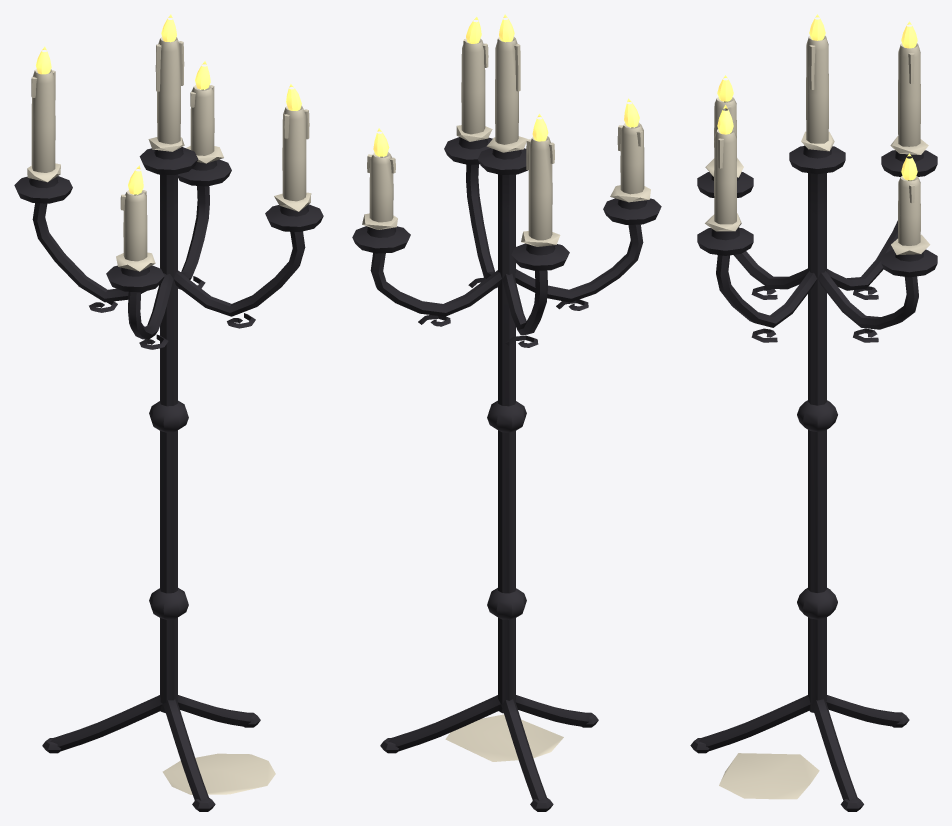
File: candelabra_drippy.glb
3 renders of one model, left to right at view 1: azimuth 30°, elevation 25°; view 2: azimuth 150°, elevation 25°; view 3: azimuth 270°, elevation 25°, orthographic.
Visible parts, largest first — view 1: candelabra_drippy, flame; view 2: candelabra_drippy, flame; view 3: candelabra_drippy, flame.
Part boxes in pixels (x1=…): candelabra_drippy: x1=14, y1=37, x2=323, y2=811; flame: x1=36, y1=14, x2=301, y2=194; candelabra_drippy: x1=352, y1=37, x2=661, y2=811; flame: x1=373, y1=14, x2=639, y2=157; candelabra_drippy: x1=690, y1=35, x2=937, y2=811; flame: x1=717, y1=14, x2=917, y2=180.
Bounding box in the file's own units: 0.414 × 1.4 × 0.4181.
